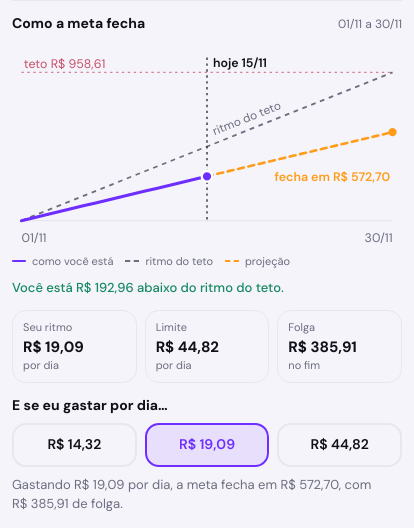
it: tela do gráfico › tocar noutro valor troca a frase do resultado
The image size is (414, 528).
Expected: the button "R$ 19,09" is shown, [145,422,269,466]
Click the button "R$ 14,32" at (74, 444), box [12,422,137,466]
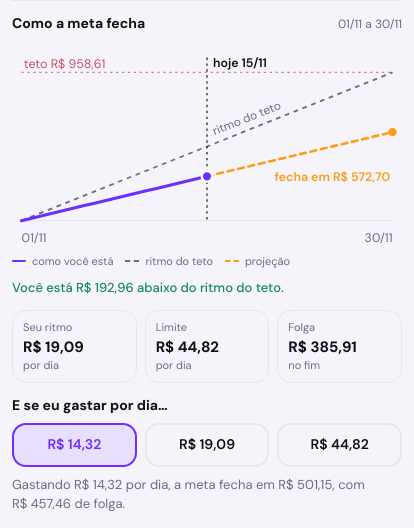
Now the button "R$ 14,32" is pressed, box [12,422,137,466]
